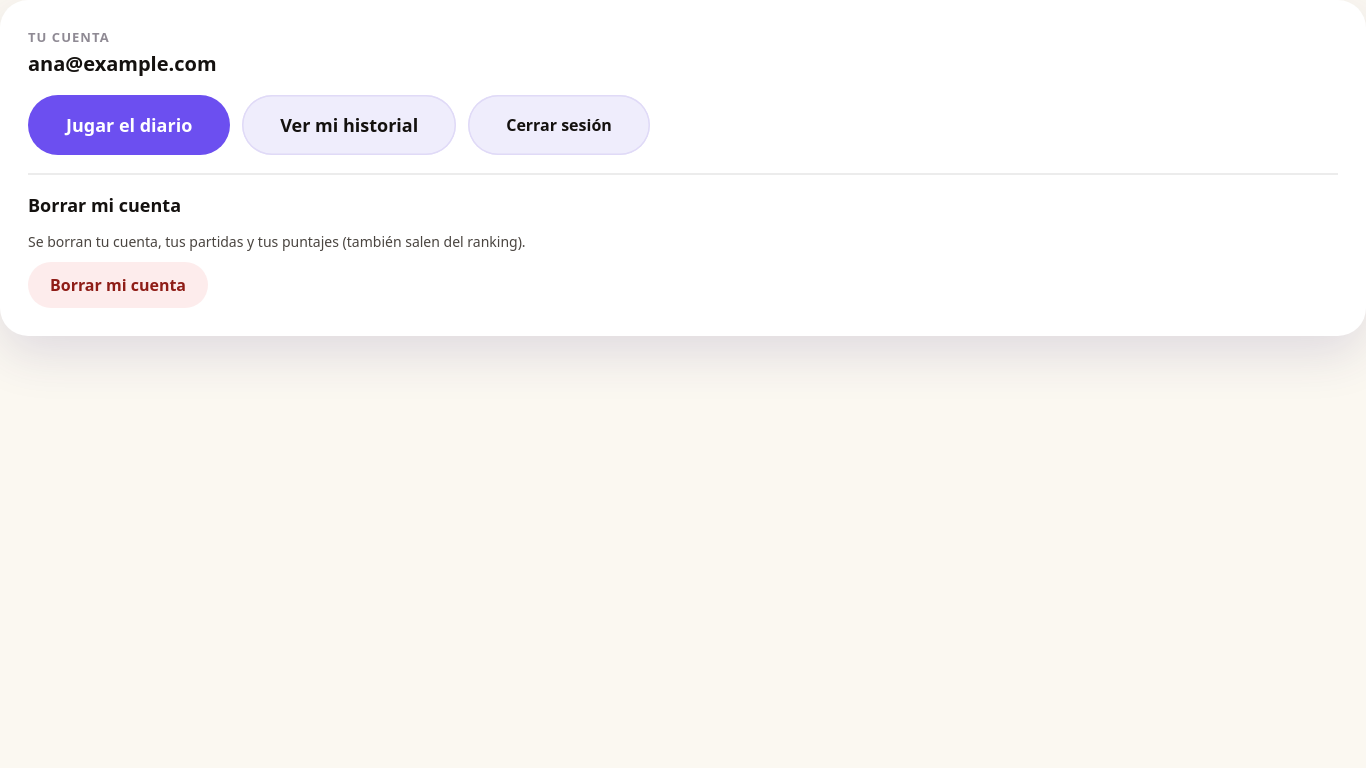
PanelCuenta › borrar la cuenta › si falla no borra nada local y lo dice
Click the button "Borrar mi cuenta".
click(118, 285)  # box [28,262,208,308]
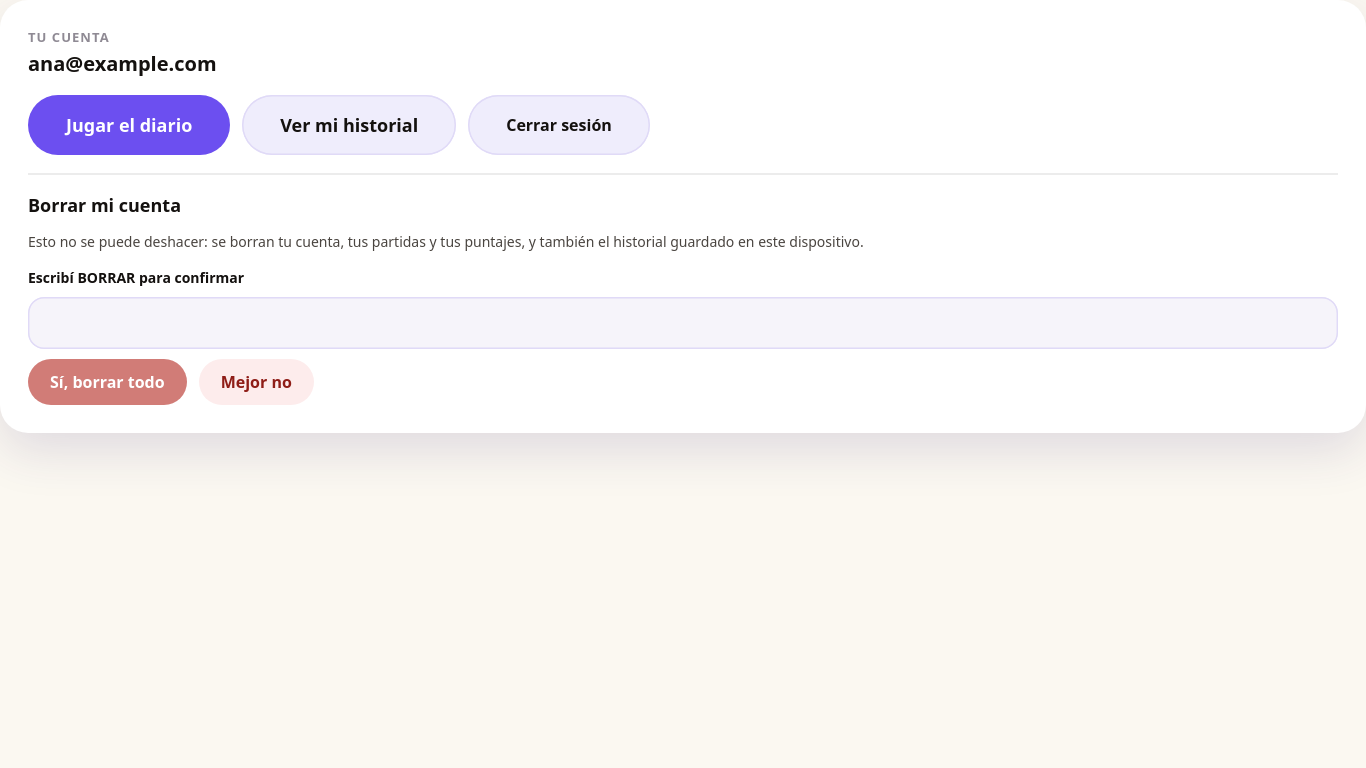
Type "BORRAR" into the field labelled "Escribí BORRAR para confirmar".
click(683, 323); type("BORRAR")  # box [28,297,1338,349]
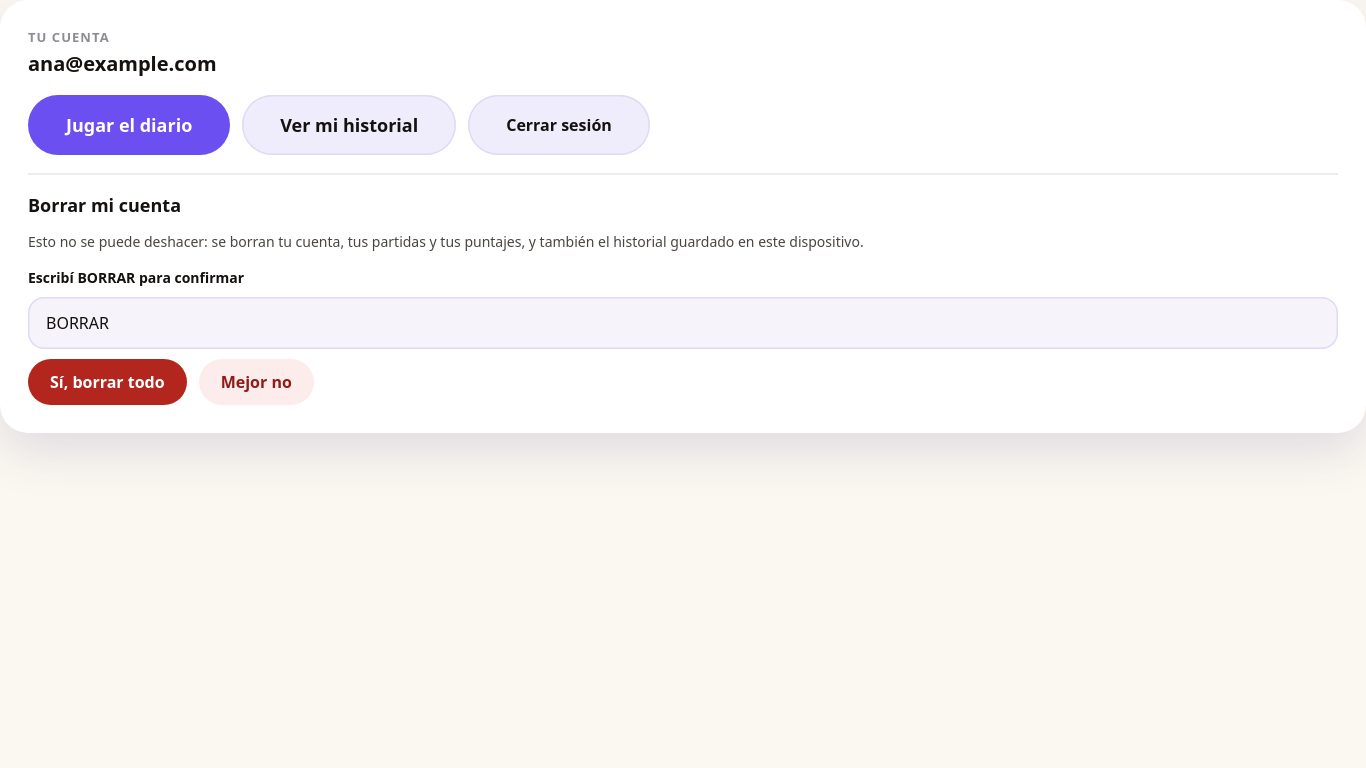
Click the button "Sí, borrar todo".
click(107, 382)  # box [28,359,187,405]
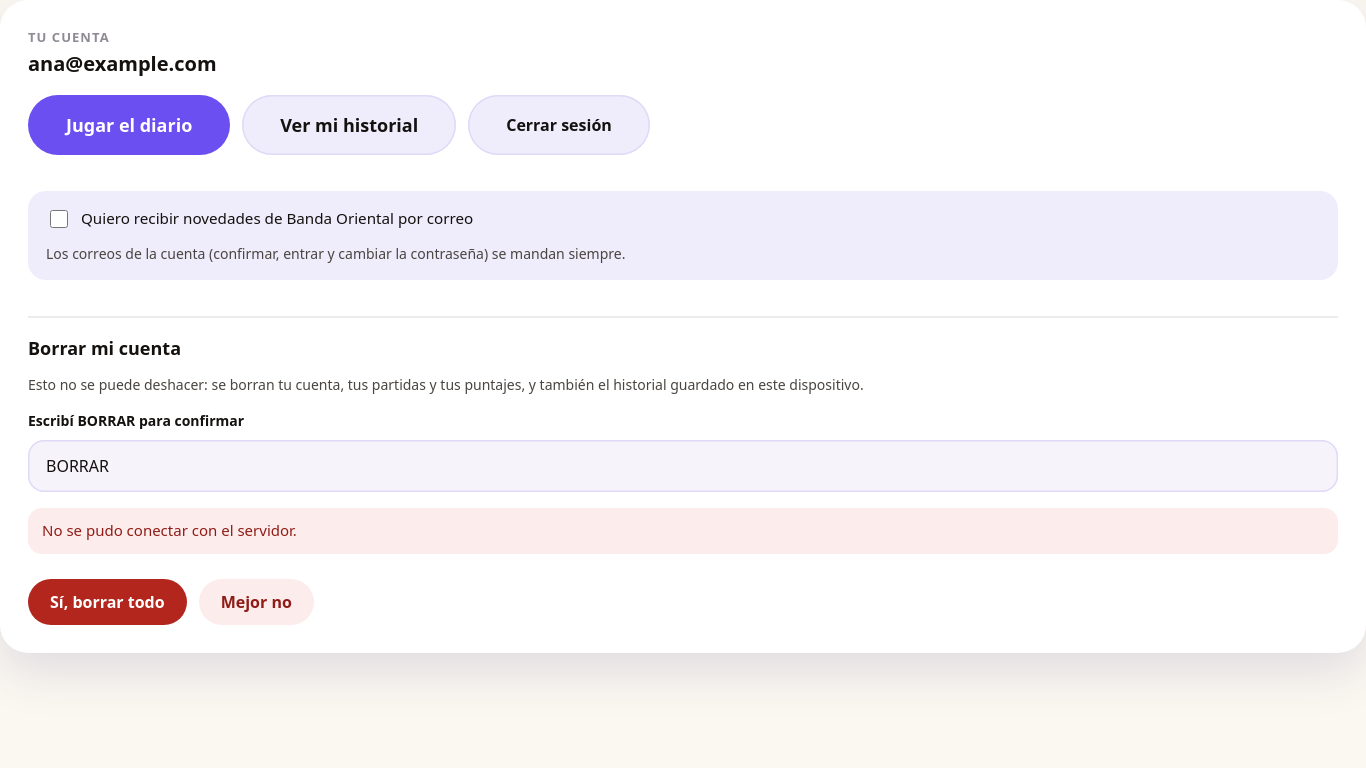
Expected: the message shows "No se pudo conectar", [42,520,297,540]
